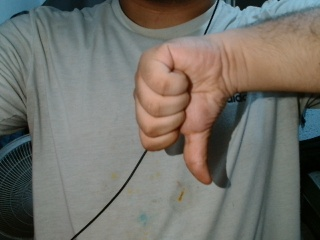Atras: (126, 24, 234, 190)
